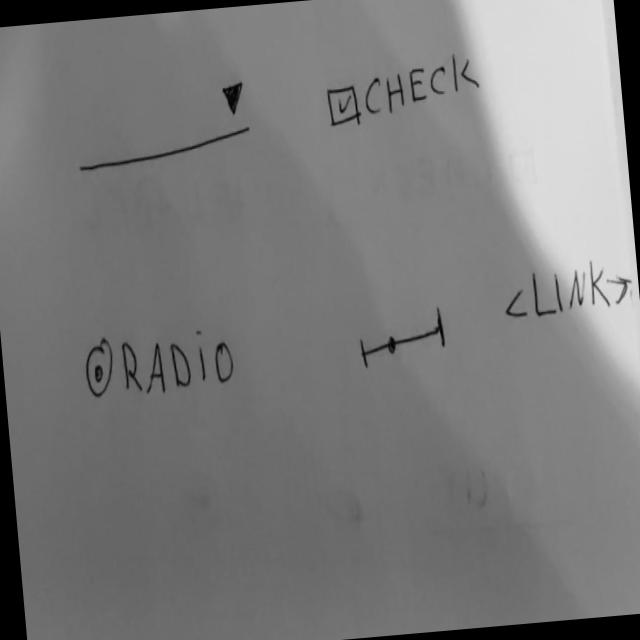checkbox: (323, 48, 487, 133)
link: (501, 257, 636, 325)
radio: (82, 322, 240, 404)
select: (70, 72, 256, 179)
slider: (357, 303, 452, 374)
